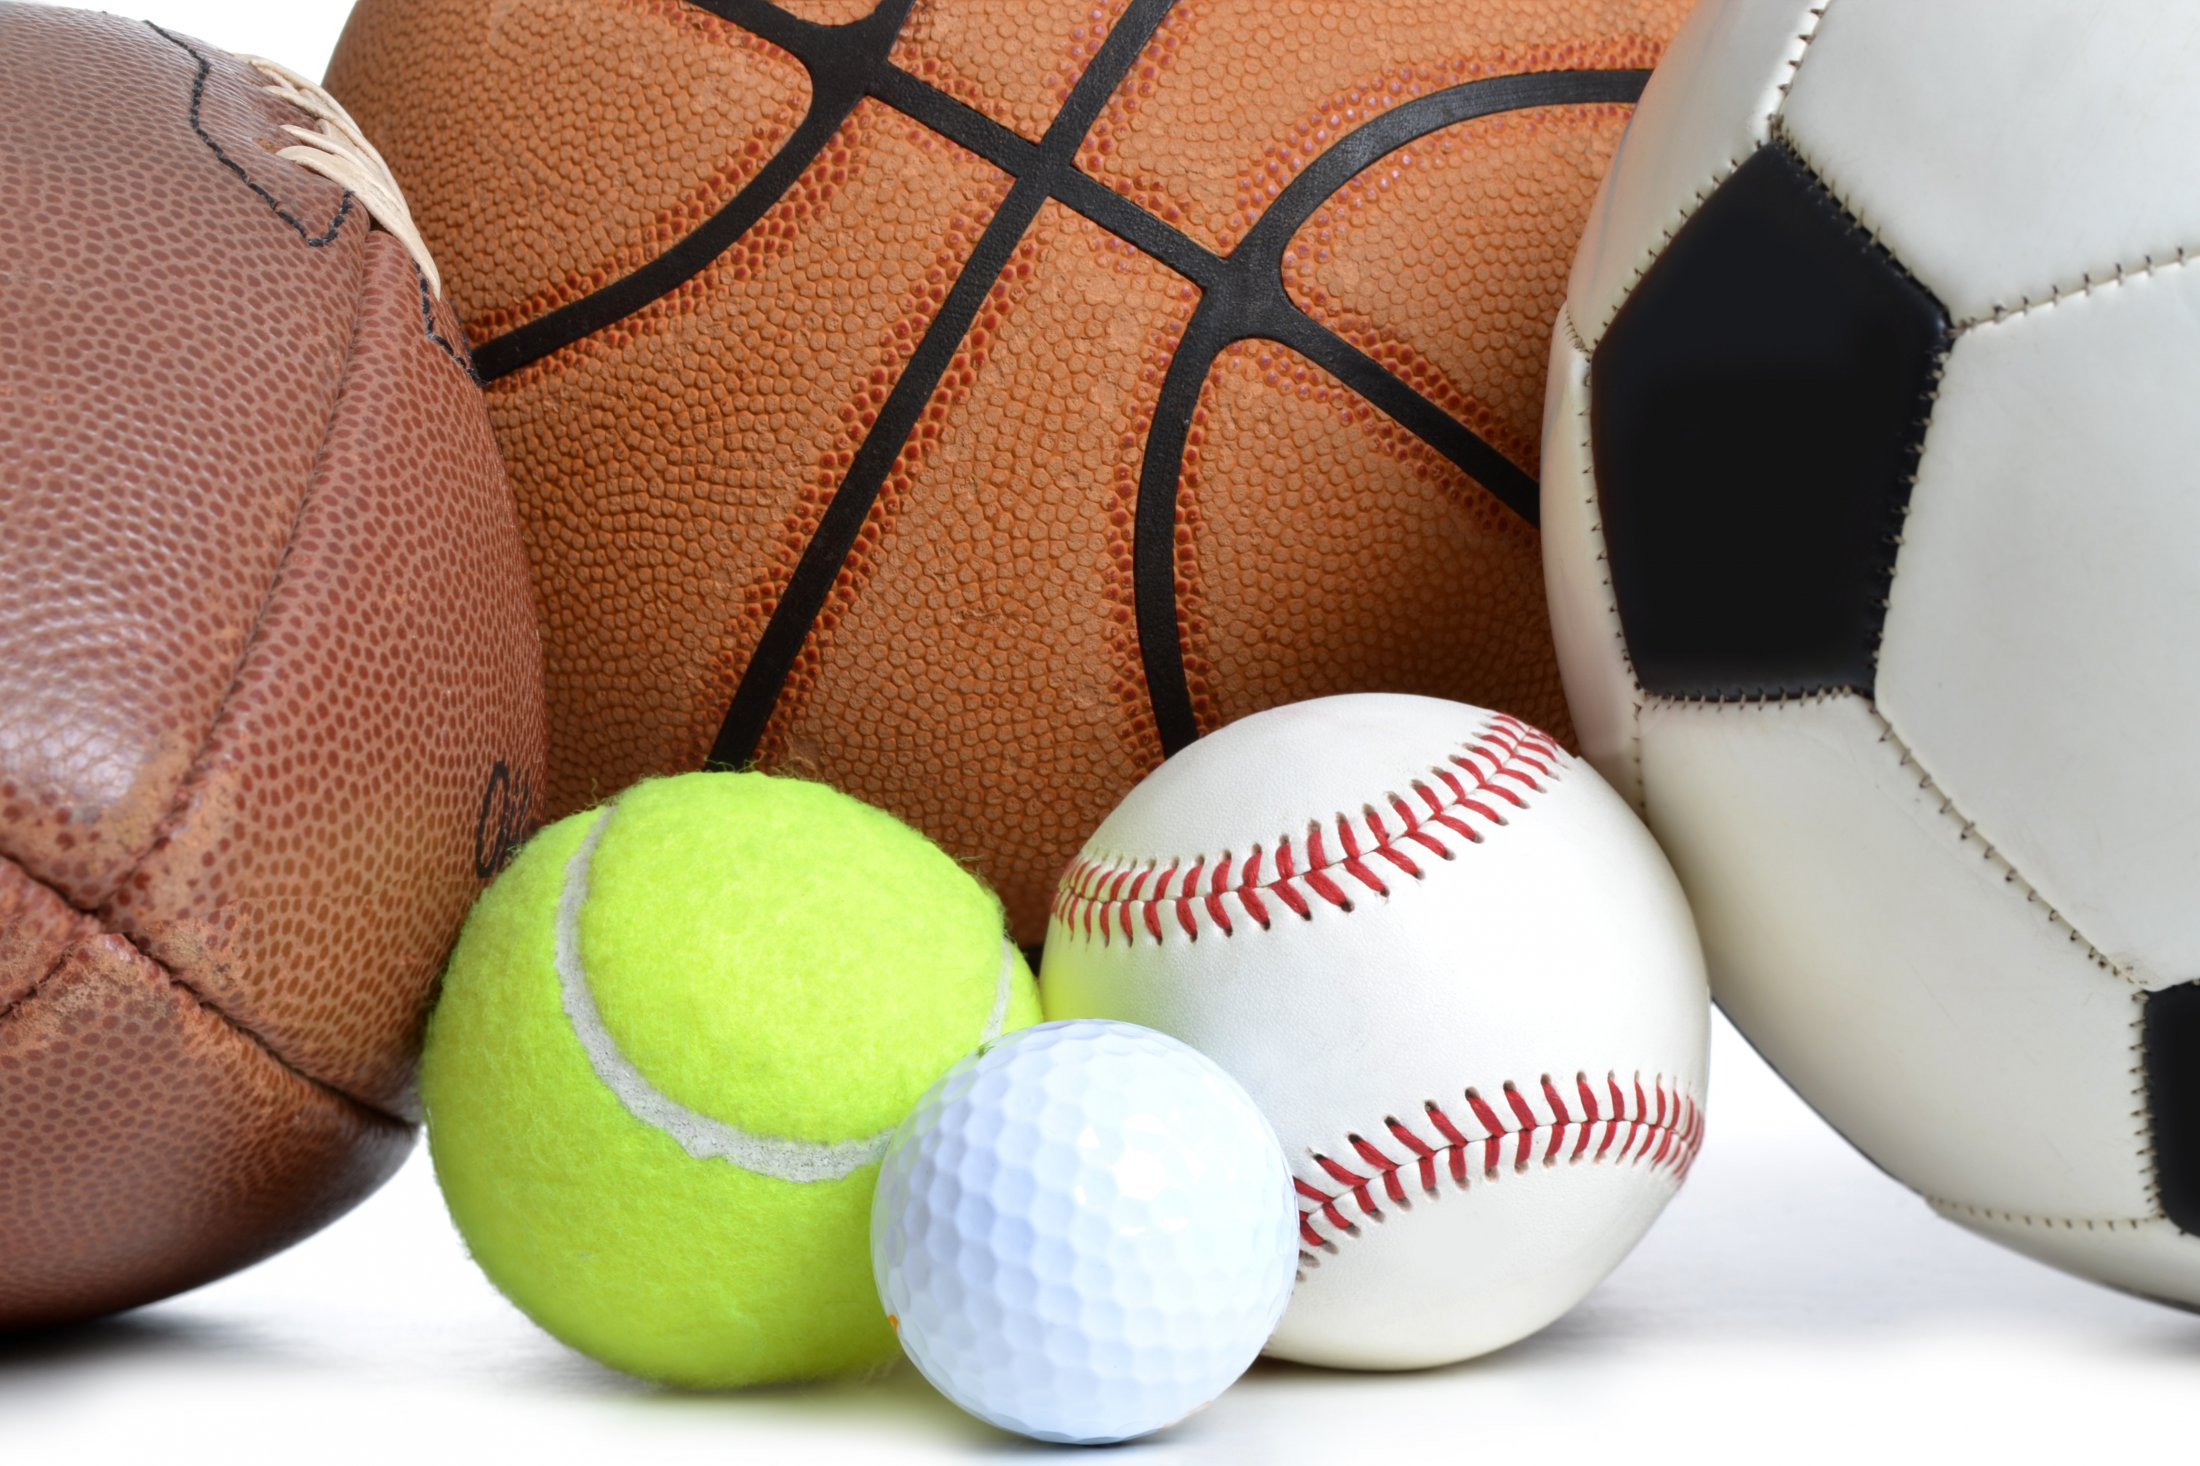tennis_ball: (424, 761, 1057, 1412)
